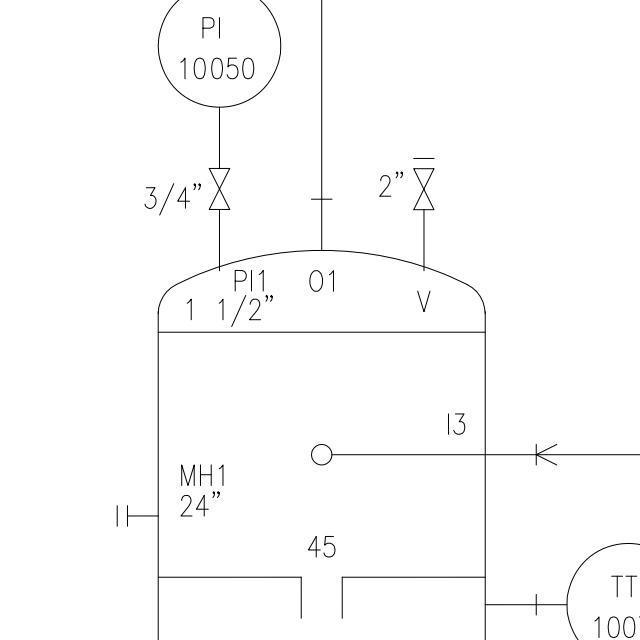GV: (205, 162, 235, 215), (409, 162, 438, 216)
